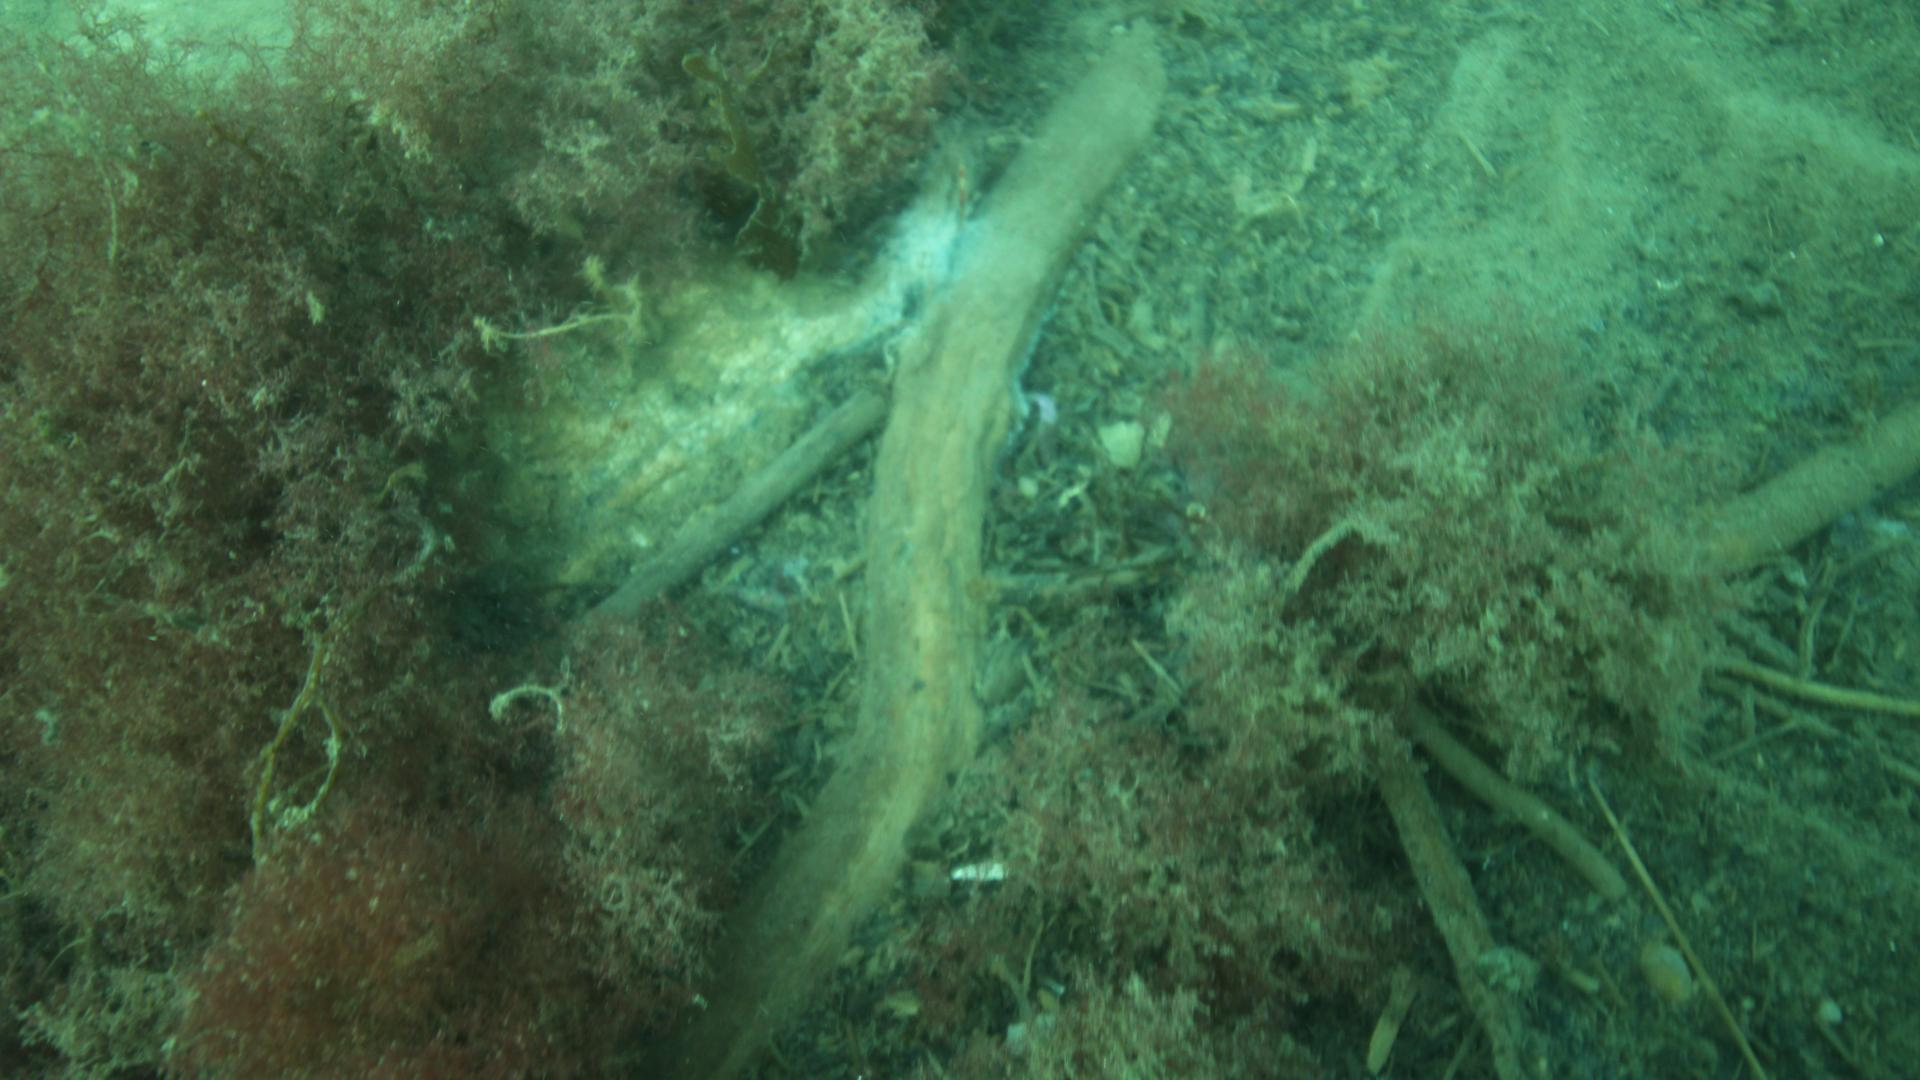wood: (719, 36, 1160, 1048), (580, 384, 884, 636), (1374, 742, 1530, 1080)
